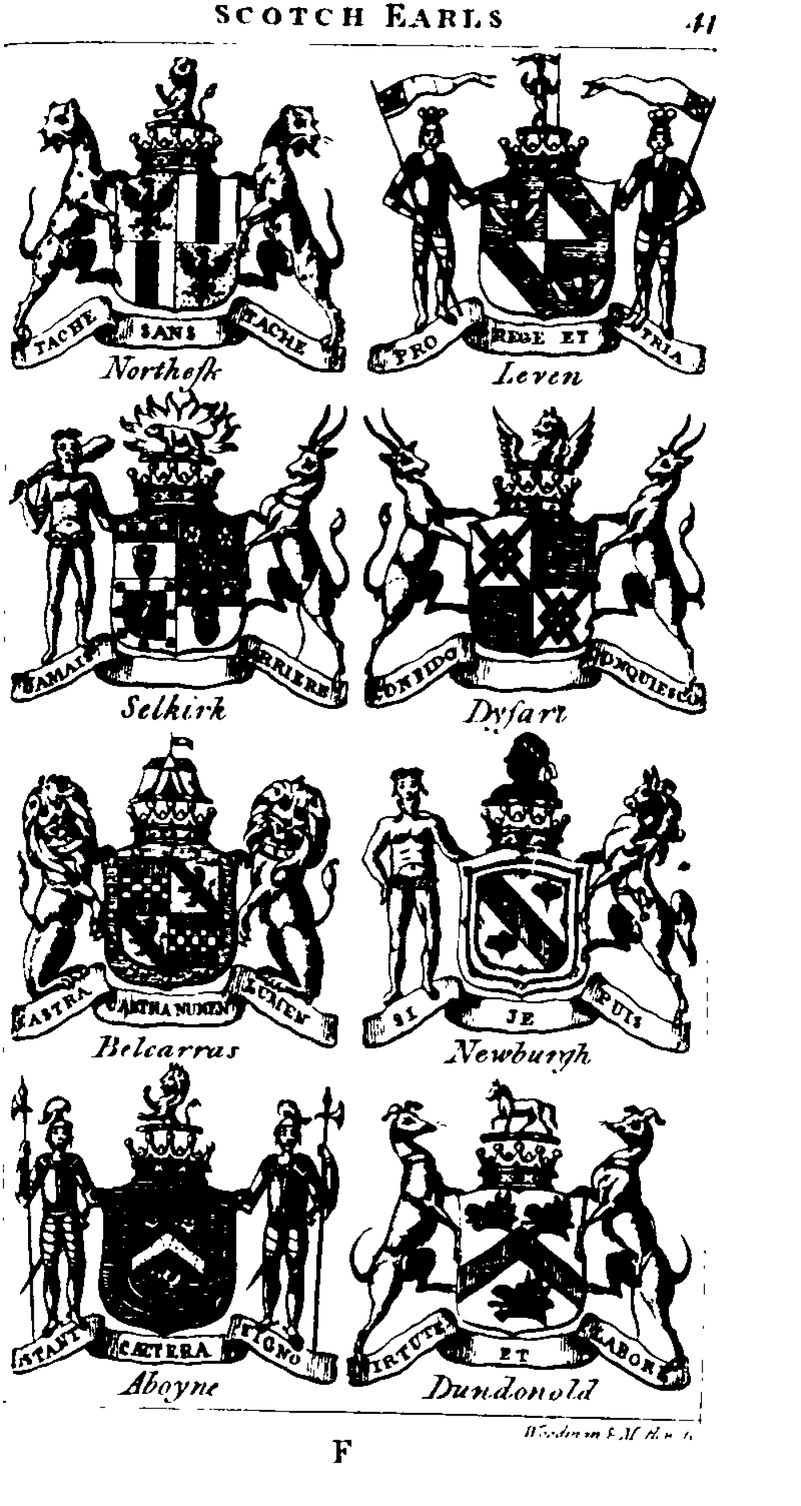coat_of_arms: (363, 49, 752, 399), (352, 728, 720, 1079), (356, 395, 717, 740), (7, 43, 353, 395), (350, 1072, 704, 1412), (10, 397, 363, 736), (5, 1066, 343, 1408), (9, 738, 350, 1066)
